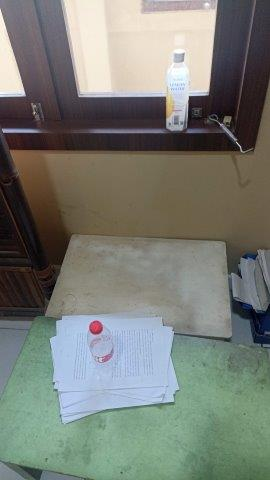botolplastik: (164, 49, 189, 133), (87, 322, 115, 373)
kertas: (46, 312, 189, 422)
